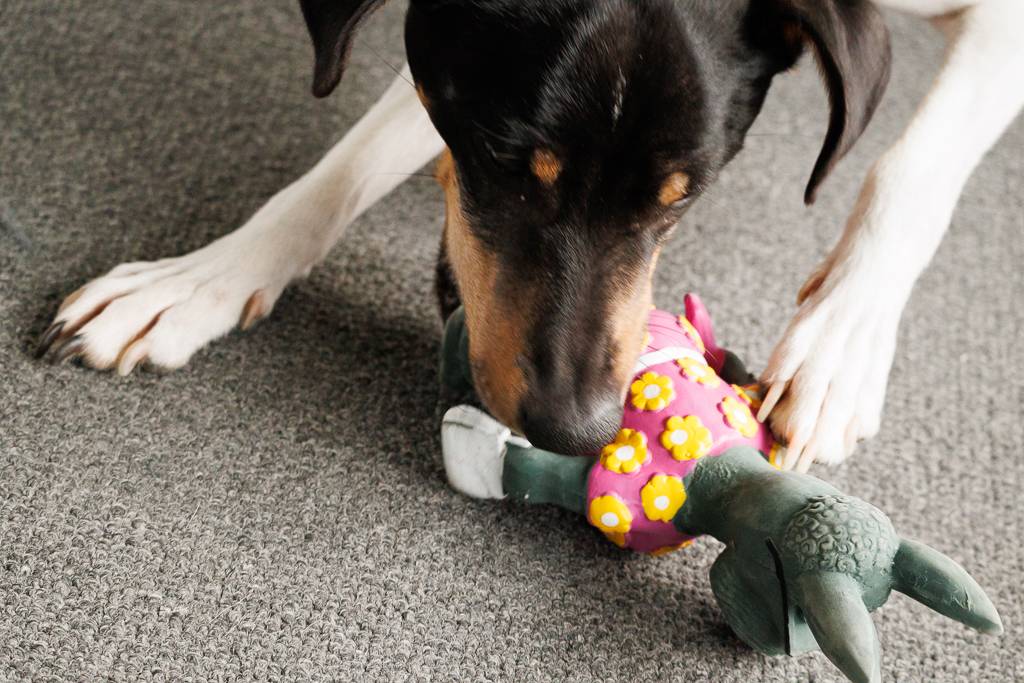Dog: (16, 0, 1024, 487)
Humanoid: (407, 258, 1011, 683)
